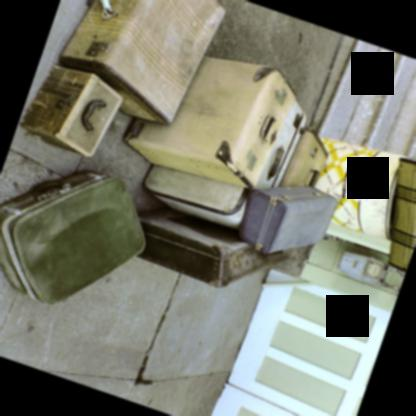suitcase: (124, 56, 307, 191), (56, 0, 225, 123), (0, 167, 147, 304), (134, 208, 295, 288), (19, 65, 122, 157), (141, 163, 246, 230), (237, 185, 336, 255), (388, 154, 416, 271), (277, 128, 328, 188)
